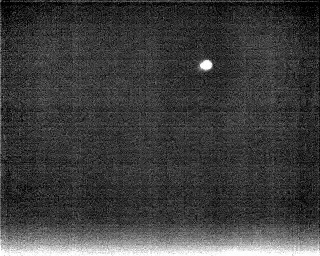AIRPLANE: (197, 57, 215, 74)
